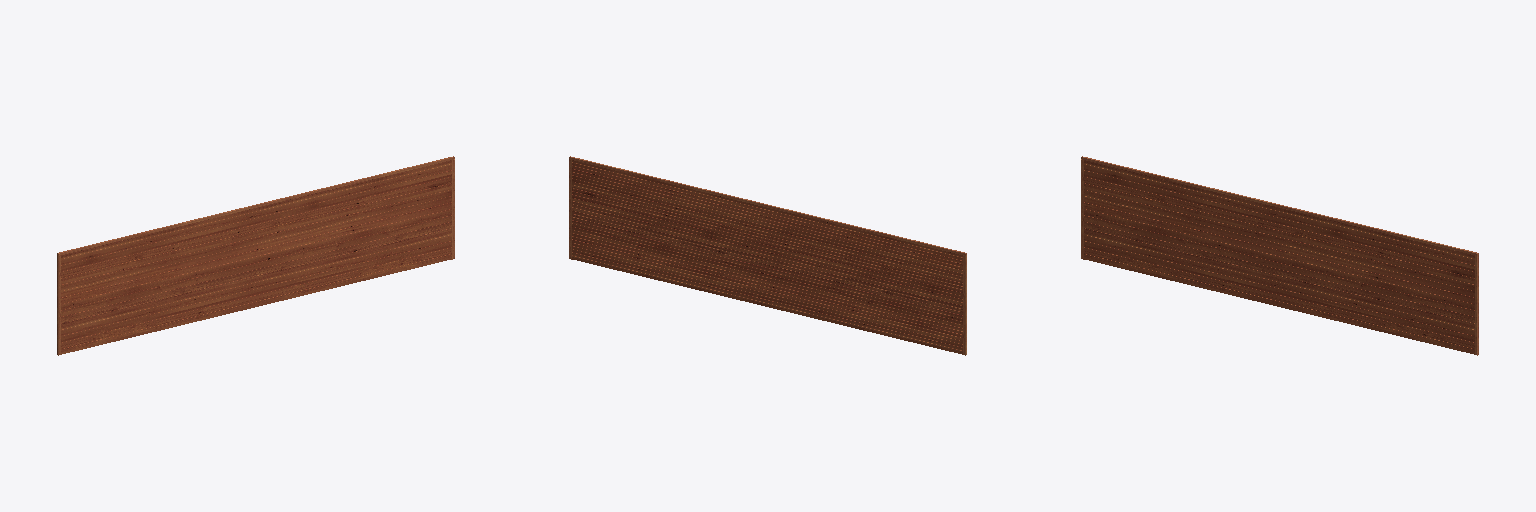
3 renders of one model, left to right at view 1: azimuth 30°, elevation 25°; view 2: azimuth 150°, elevation 25°; view 3: azimuth 330°, elevation 25°, orthographic.
Parts seen in each view (by area): view 1: wall_planks, trim_top; view 2: wall_planks, trim_top; view 3: wall_planks, trim_top.
Part boxes in pixels (left/top/right/bottom): wall_planks: left=61, top=160, right=451, bottom=354; trim_top: left=57, top=156, right=454, bottom=255; wall_planks: left=572, top=160, right=962, bottom=354; trim_top: left=569, top=156, right=966, bottom=255; wall_planks: left=1084, top=160, right=1474, bottom=354; trim_top: left=1081, top=156, right=1478, bottom=255.
Size of the model in its own units: 384 by 94.5 by 1.82.
2 materials, 2 textured.